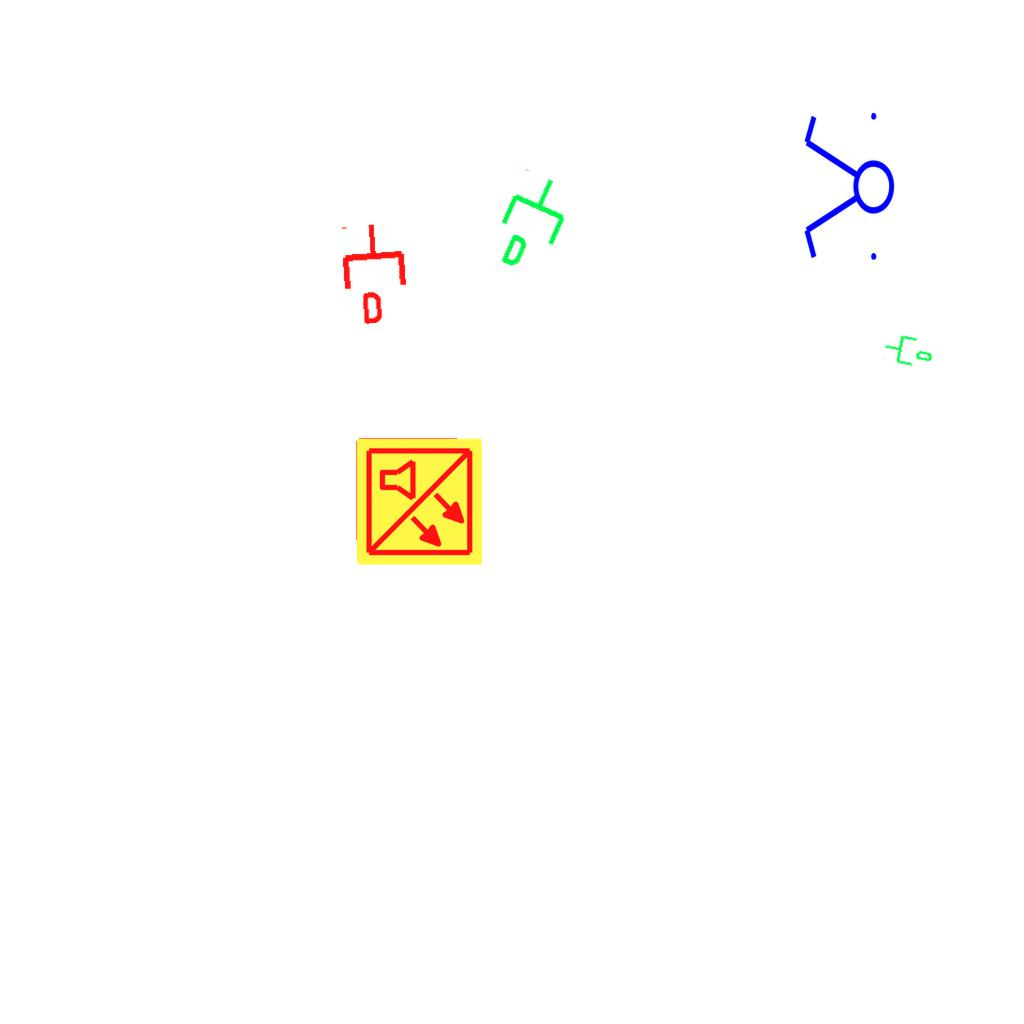Datenanschluss_einfach: (481, 164, 586, 284), (336, 220, 413, 326), (881, 328, 937, 372)
OKW_Multisensormelder_(Kombination_optischer_Rauch-Kahlenmonoxid_Waerme-Melder): (353, 436, 485, 568)
Serienschalter: (800, 104, 896, 272)
